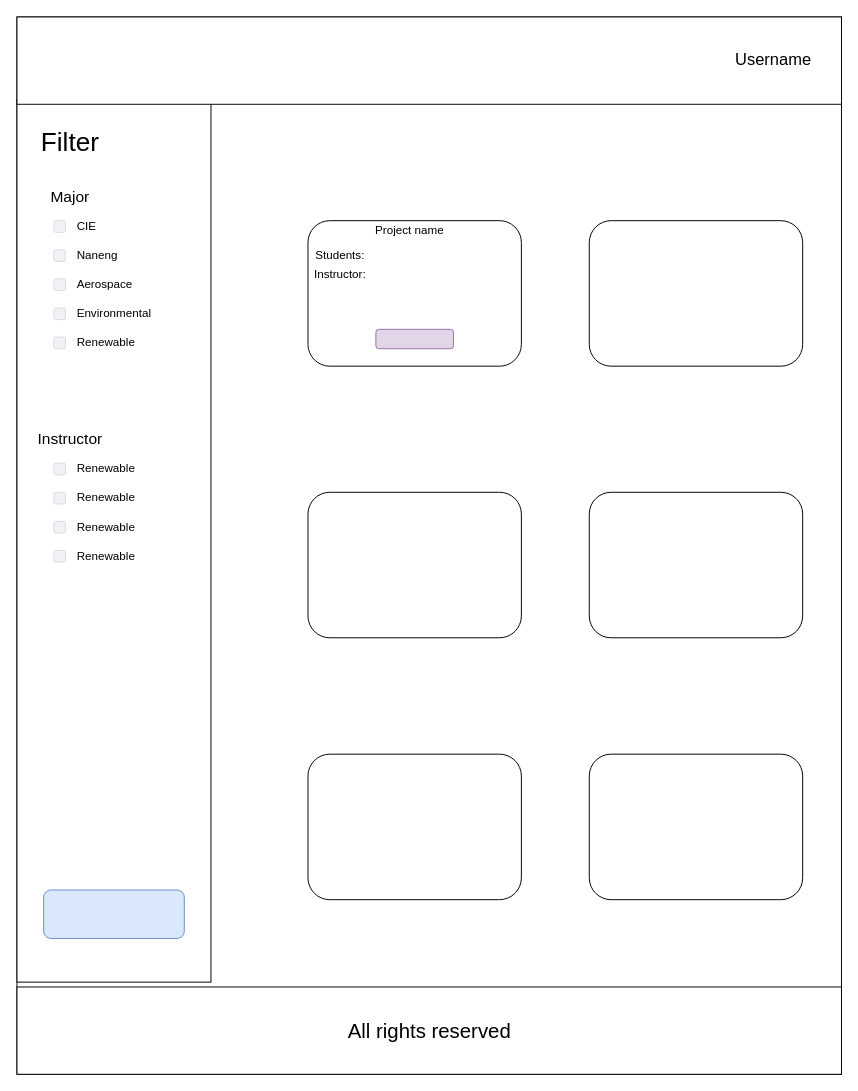
This 858x1091 diagram has some shape labels left out. Each missing label, with the centre of its shape:
"Apply" belongs at point 113,913.
"View files" belongs at point 414,338.
